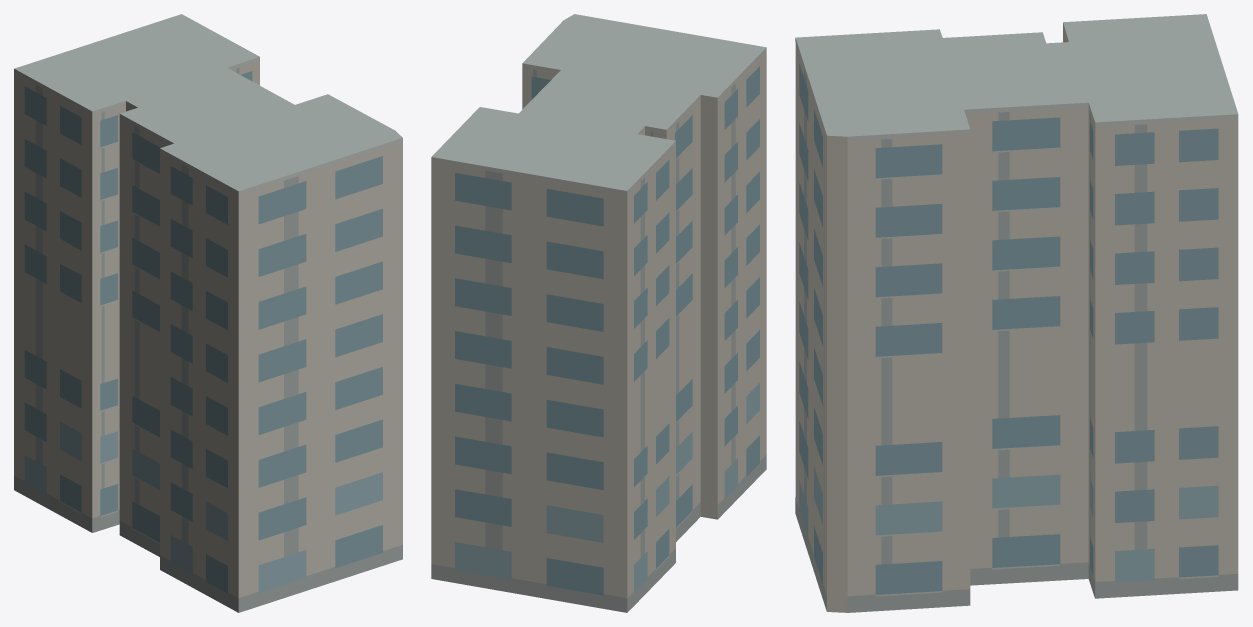
Rendered from survey-upis-32701728.glb.
3 views of the same model, side by side, from view 1: azimuth 30°, elevation 25°; view 2: azimuth 150°, elevation 25°; view 3: azimuth 270°, elevation 25° (orthographic). The views are drawn at different scales.
Parts seen in each view (by area): view 1: survey-upis-32701728.tmp; view 2: survey-upis-32701728.tmp; view 3: survey-upis-32701728.tmp.
Part boxes in pixels (box(x1,y1,x2,y2)): survey-upis-32701728.tmp: box(14, 14, 402, 612); survey-upis-32701728.tmp: box(431, 14, 766, 612); survey-upis-32701728.tmp: box(795, 14, 1238, 612).
Size of the model in its own units: 13.49 by 24.4 by 20.58.
